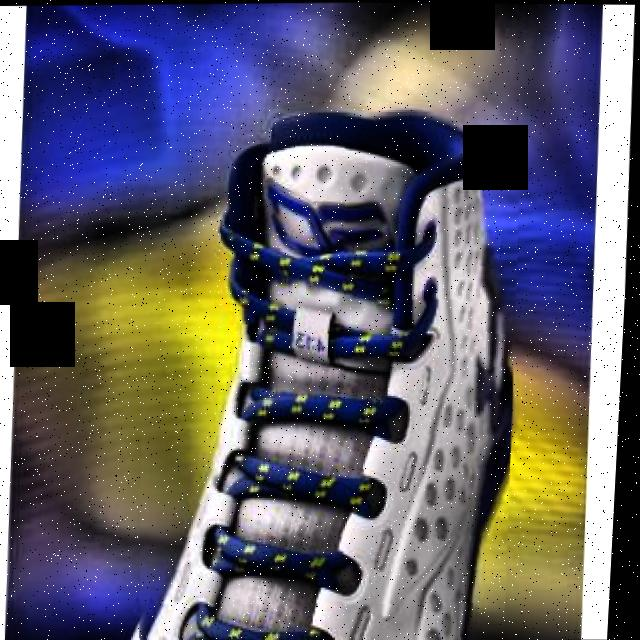shoe: (121, 107, 532, 640)
